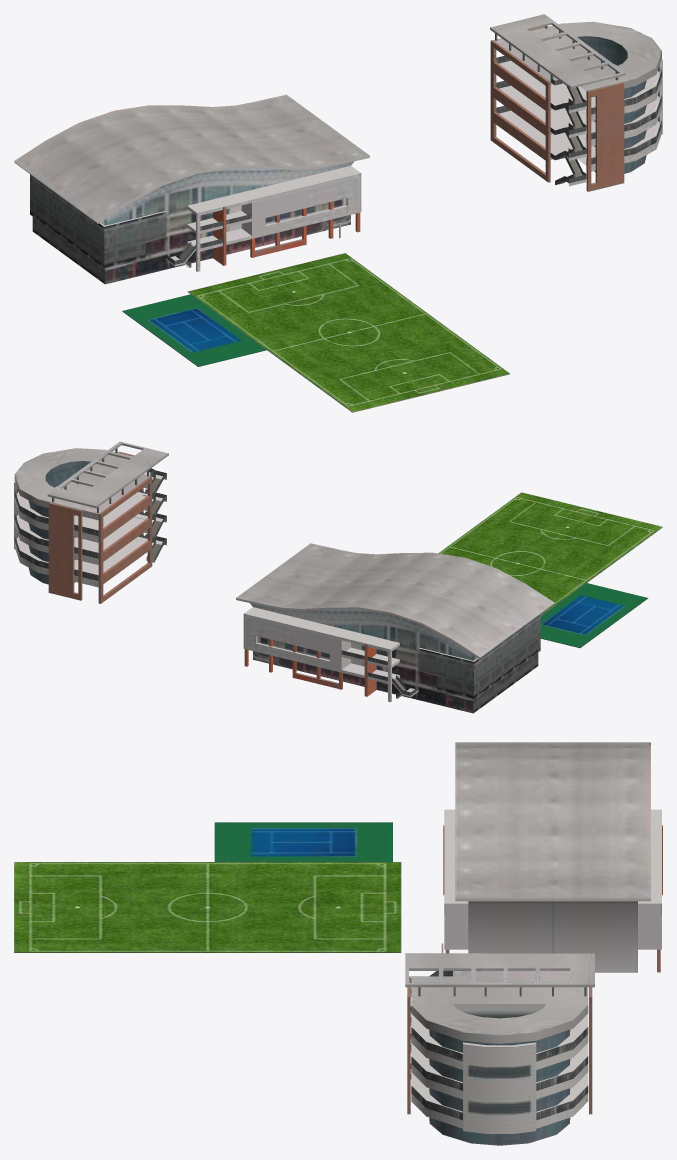
3 views of the same model, one above another, from view 1: azimuth 30°, elevation 25°; view 2: azimuth 150°, elevation 25°; view 3: azimuth 270°, elevation 25° (orthographic). The views are drawn at different scales.
Parts seen in each view (by area): view 1: HN475___2___Hanoi___Amsterdam; view 2: HN475___2___Hanoi___Amsterdam; view 3: HN475___2___Hanoi___Amsterdam.
Part boxes in pixels (box(x1,y1,x2,y2)): HN475___2___Hanoi___Amsterdam: box(14, 14, 662, 412); HN475___2___Hanoi___Amsterdam: box(14, 441, 662, 713); HN475___2___Hanoi___Amsterdam: box(14, 742, 662, 1145).
Size of the model in its own units: 157 by 28.74 by 130.
Materials: 1 (1 with a texture image).
